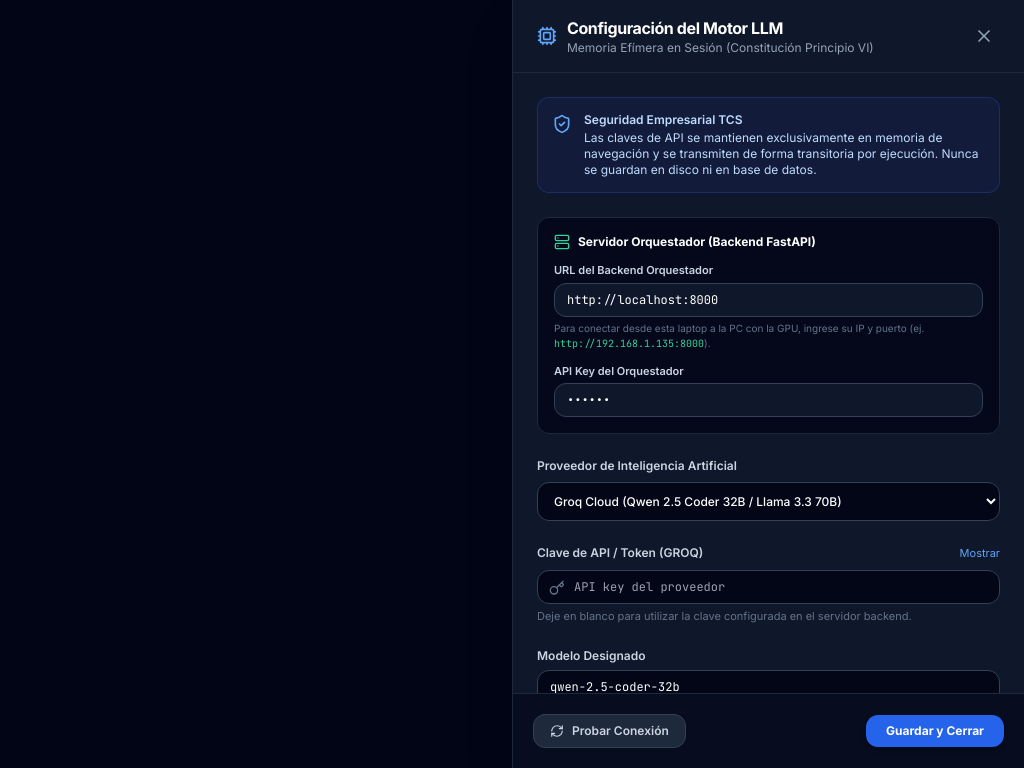
Test: SettingsDrawer Pop-up Modal › allows selecting Local Ollama provider with Fedora RX 570 recommendations
Step 1. Select "Local (Ollama / llama.cpp - Fedora RX 570)" in the dropdown → (768, 502), box [537, 482, 1000, 521]
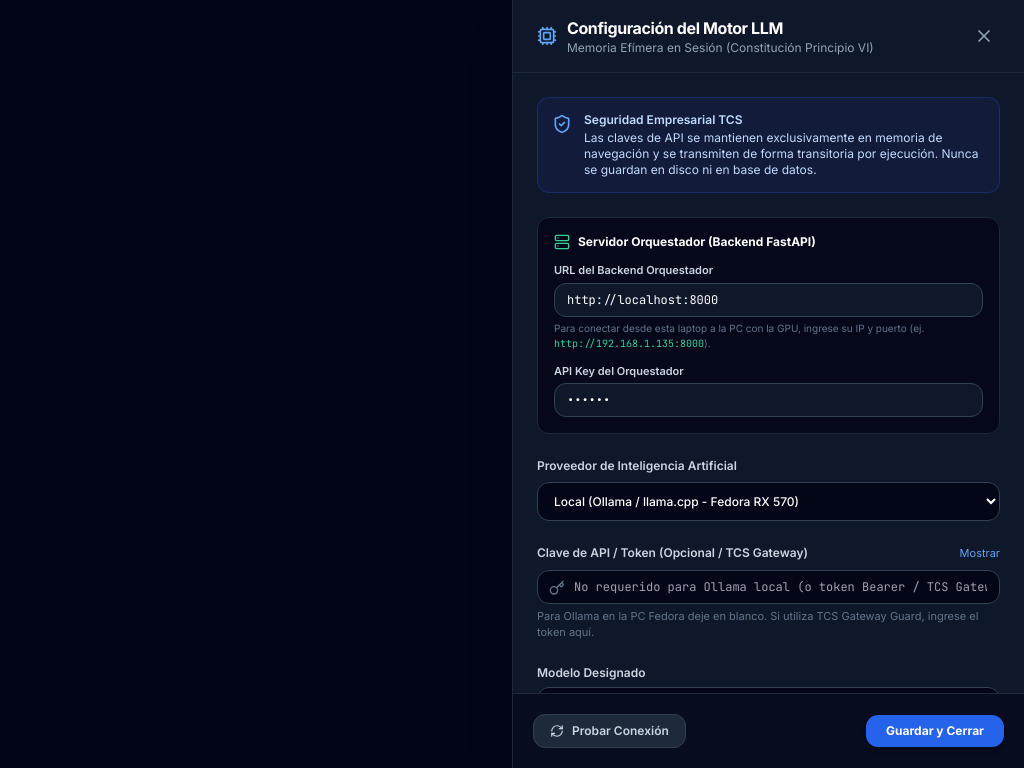
Check: the text "Clave de API / Token (Opcional / TCS Gateway)" is shown, box [537, 545, 808, 561]
